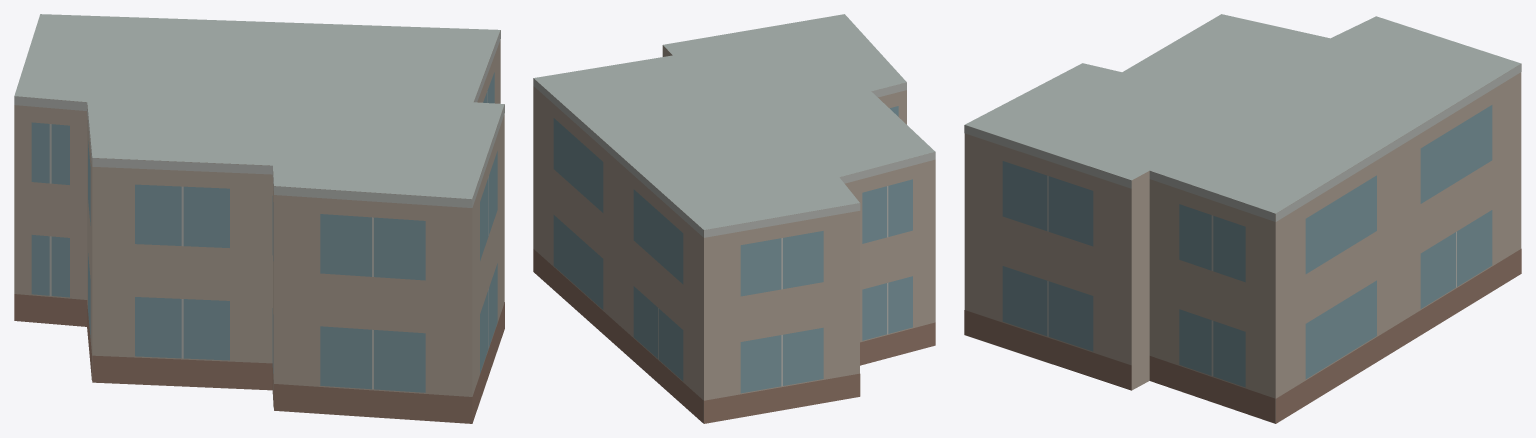
The model's file is survey-upis-32872256.glb.
The picture shows the model from 3 angles, left to right: view 1: azimuth 30°, elevation 25°; view 2: azimuth 150°, elevation 25°; view 3: azimuth 270°, elevation 25°; orthographic projection. The views are drawn at different scales.
Parts seen in each view (by area): view 1: survey-upis-32872256.tmp; view 2: survey-upis-32872256.tmp; view 3: survey-upis-32872256.tmp.
Boxes of the visible parts, x1,y1,x2,y2 form: survey-upis-32872256.tmp: (14, 14, 504, 423); survey-upis-32872256.tmp: (533, 14, 935, 423); survey-upis-32872256.tmp: (964, 14, 1521, 423).
Size of the model in its own units: 12.44 by 6.1 by 14.66.
